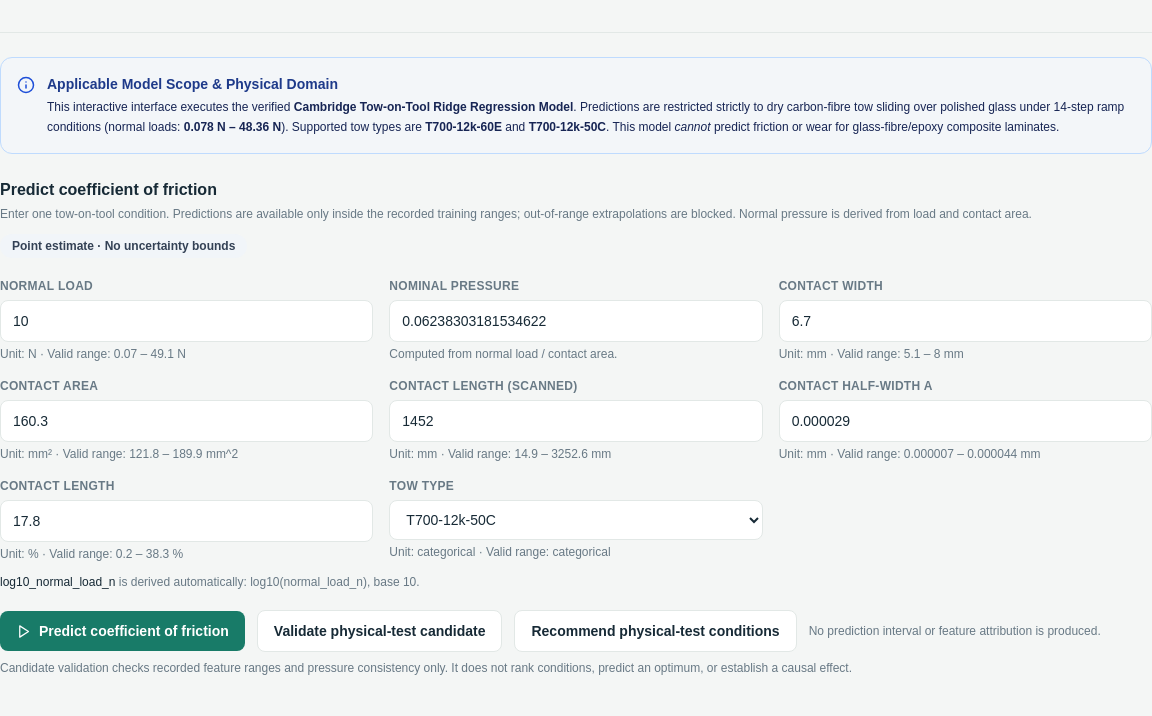
it: CofPredictionForm › surfaces out-of-domain flags returned by the API
Click the button "Predict coefficient of friction" at (122, 631), box [0,611,245,651]
(page scrolled)
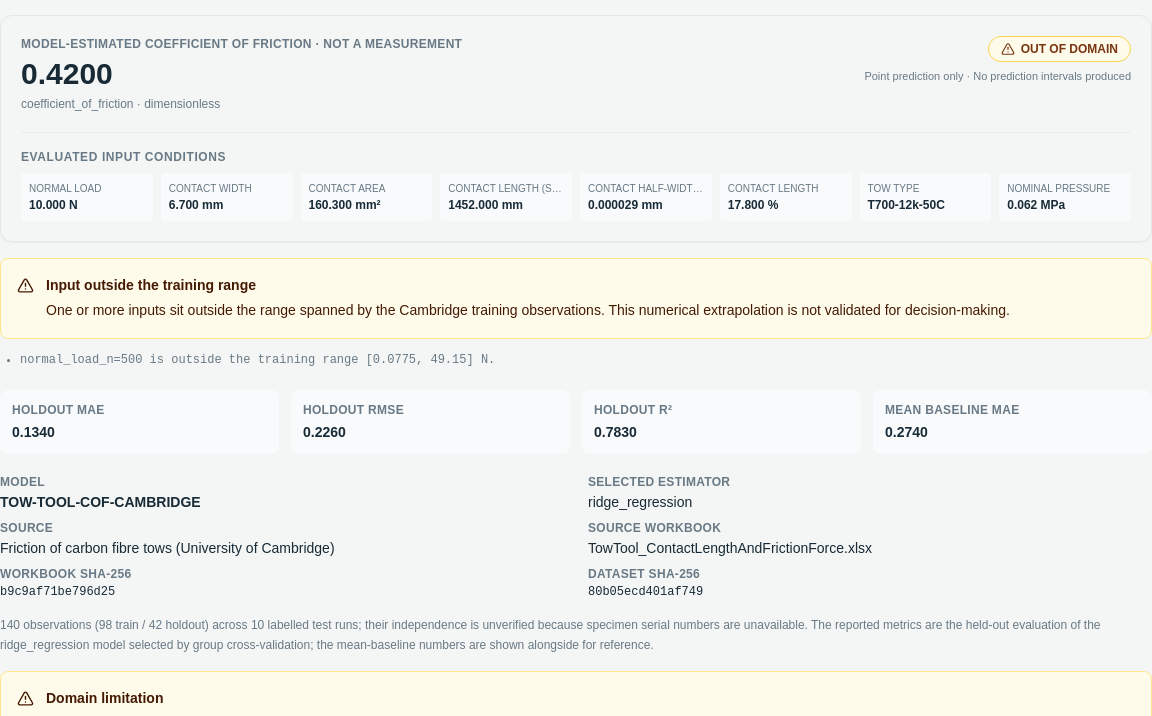
Check: the text "OUT OF DOMAIN" is shown, box [988,36,1131,62]
Check: the list item "normal_load_n=500 is outside the training range" is shown, box [20,353,495,367]
